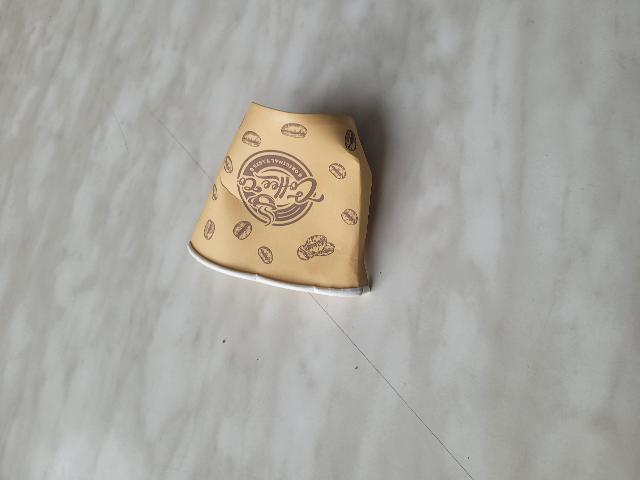Kagit: (175, 101, 393, 323)
